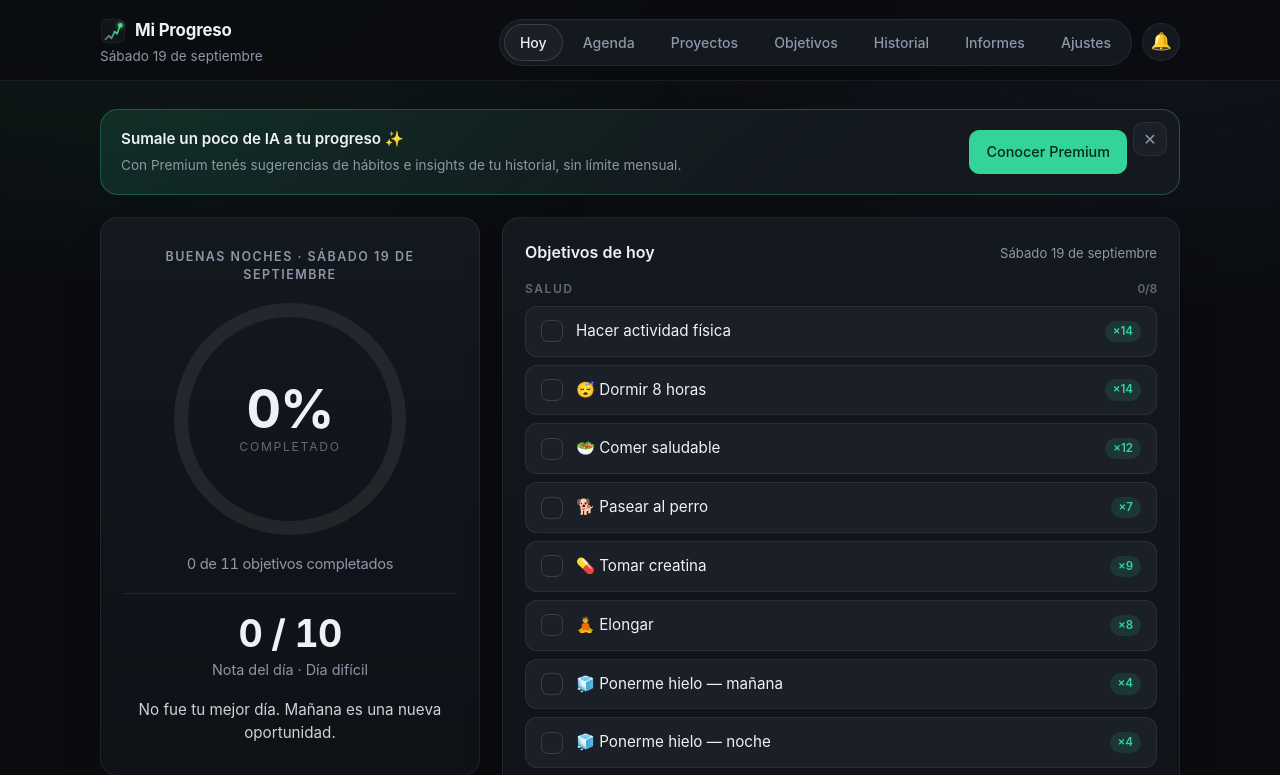
Test case: Revisión mensual guiada › avanza y retrocede los pasos sin perder el texto tipeado
Check: the heading "Objetivos de hoy" is shown, box x1=525 y1=240 x2=655 y2=264
Step 1. Click the button "Informes" → point(995, 42), box x1=949 y1=24 x2=1041 y2=61
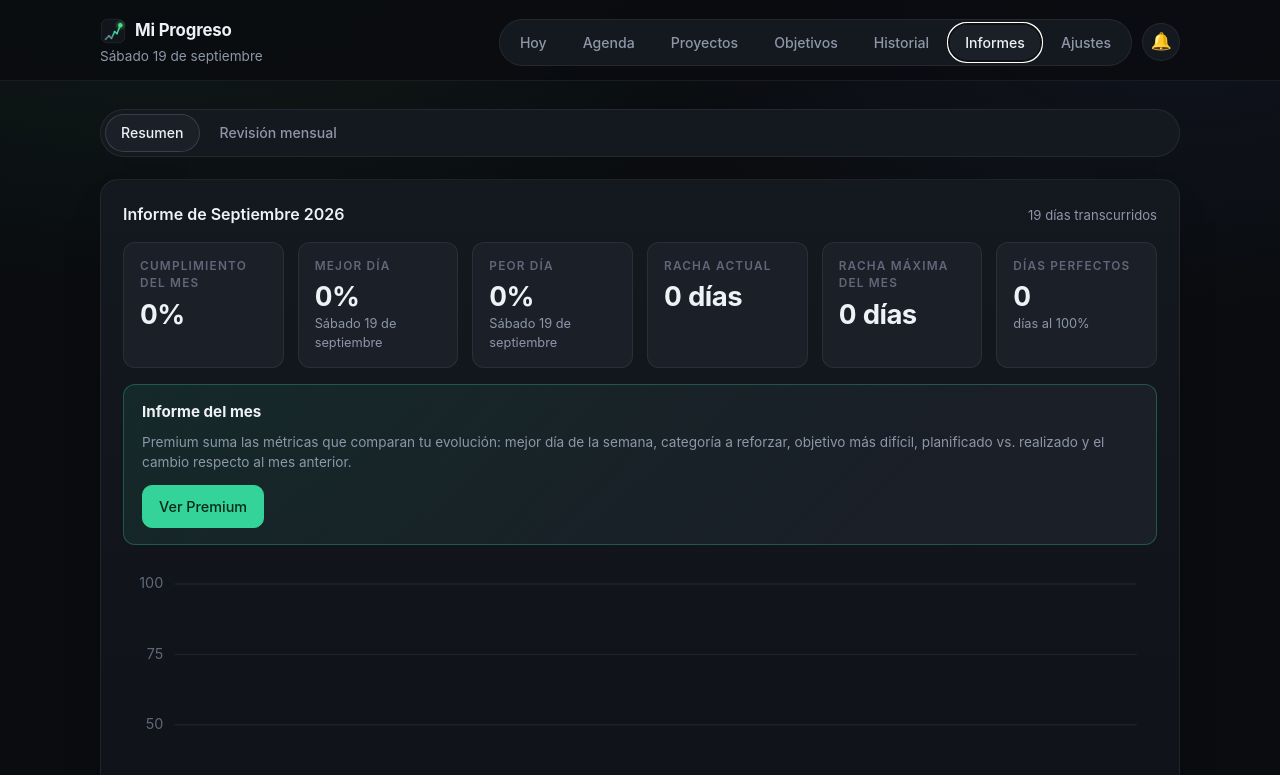
Step 2. Click the button "Revisión mensual" → point(278, 133), box x1=204 y1=114 x2=353 y2=152
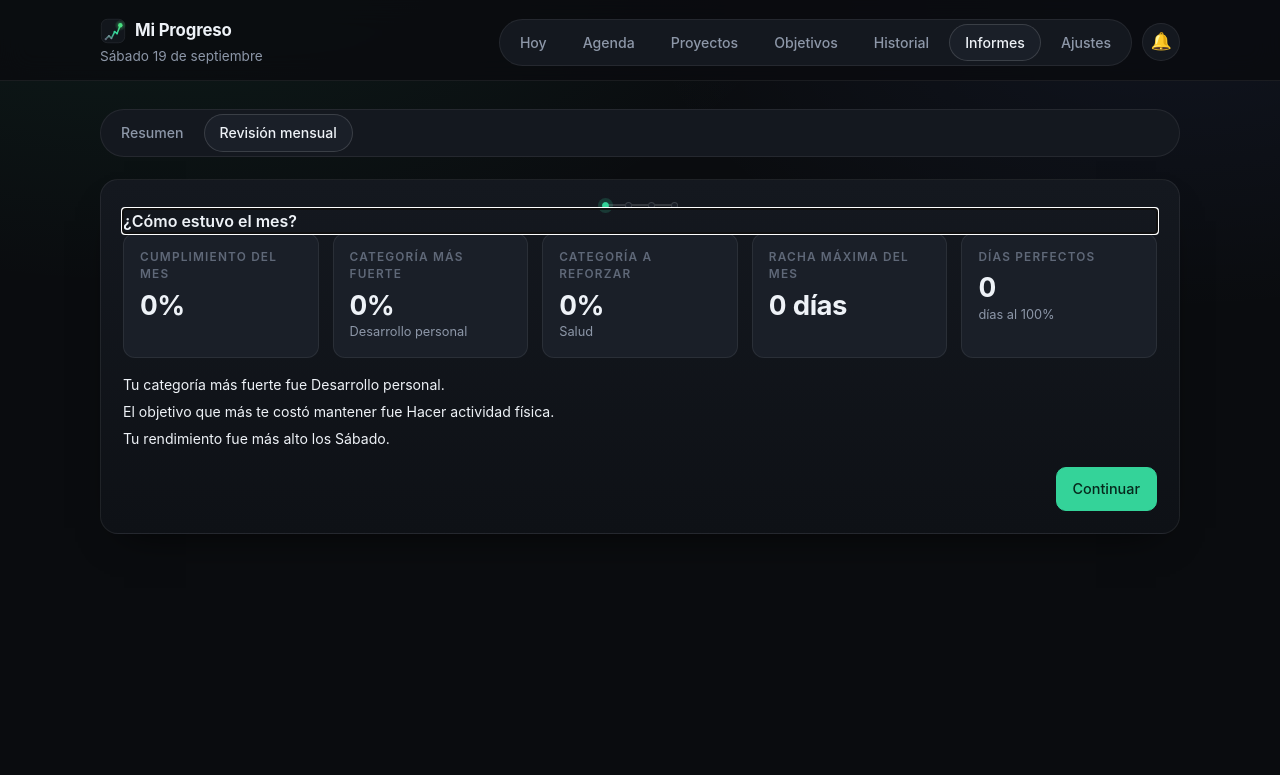
Check: the heading "¿Cómo estuvo el mes?" is shown, box x1=123 y1=210 x2=297 y2=230
Step 3. Click the button "Continuar" → point(1106, 489), box x1=1056 y1=467 x2=1157 y2=510
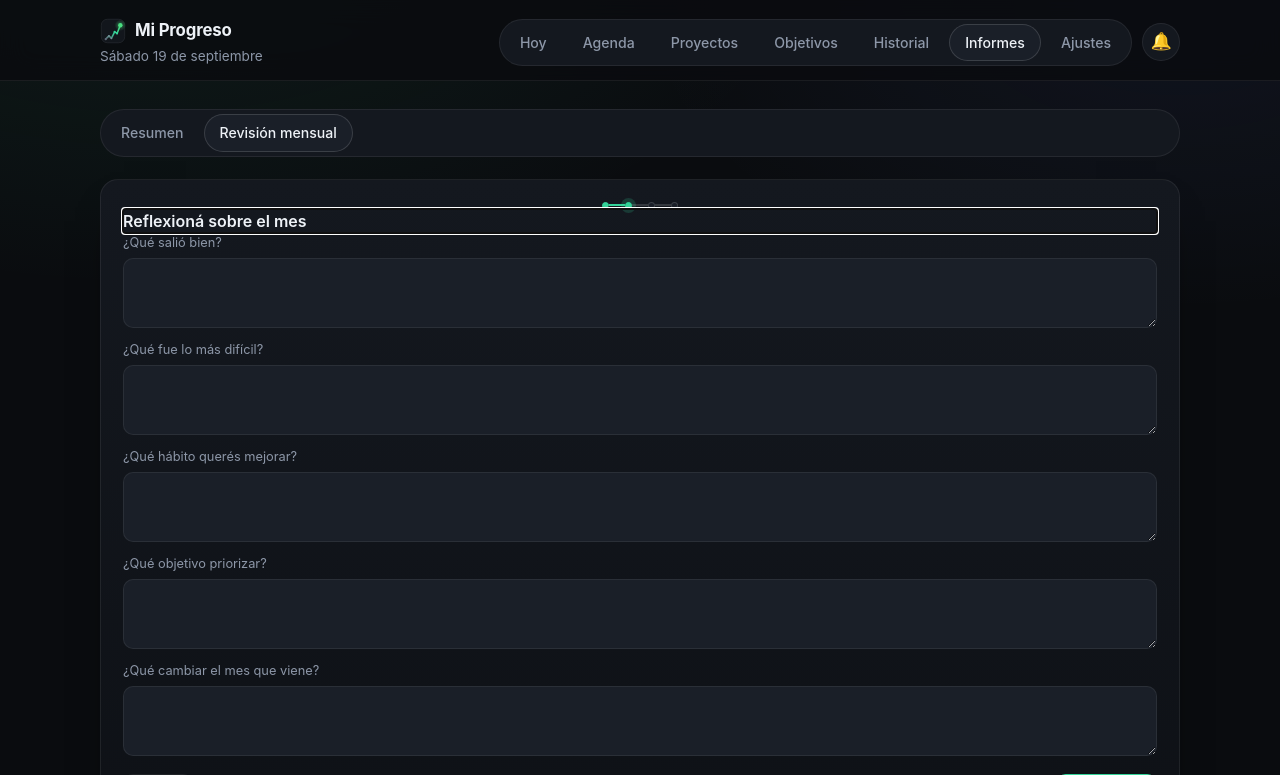
Check: the heading "Reflexioná sobre el mes" is shown, box x1=123 y1=210 x2=307 y2=230
Step 4. Type "Salió bien dormir mejor" into the text box labelled "¿Qué salió bien?" → point(640, 293), box x1=123 y1=258 x2=1157 y2=328
(page scrolled)
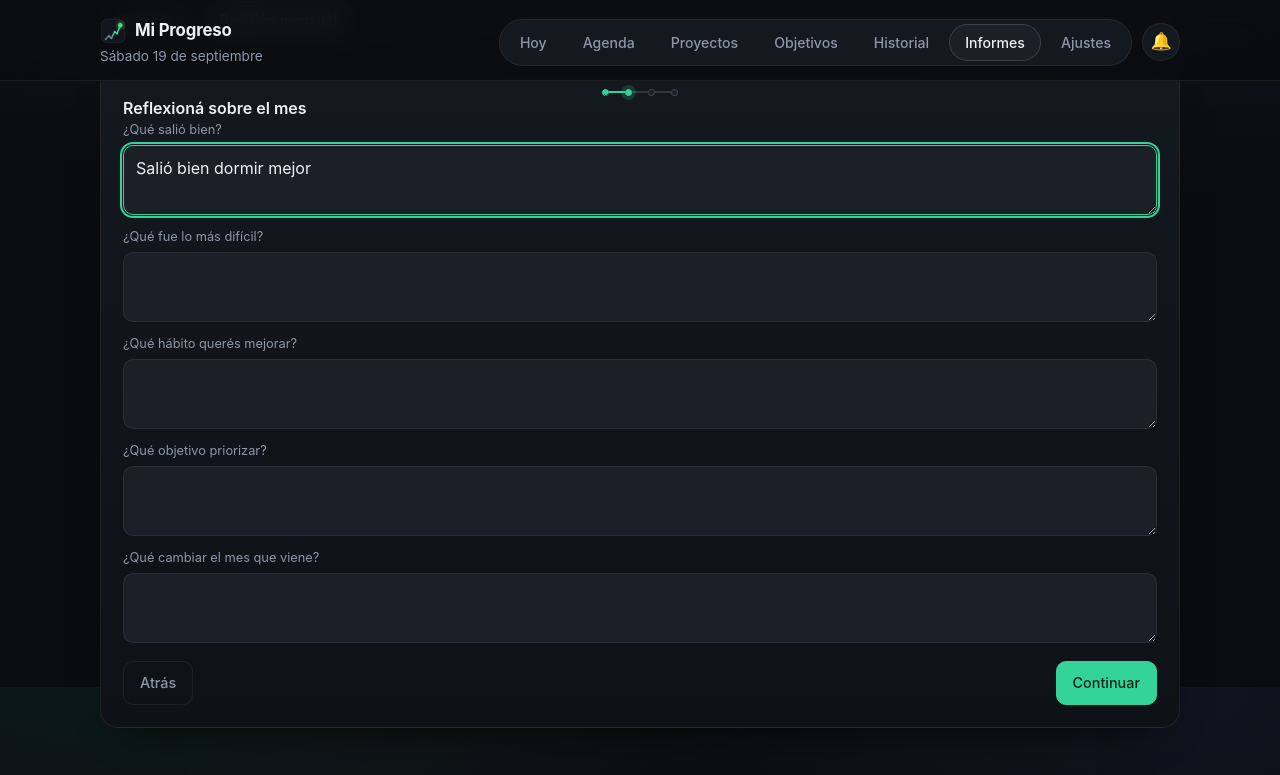
Step 5. Click the button "Atrás" → point(158, 683), box x1=123 y1=661 x2=193 y2=705
(page scrolled)
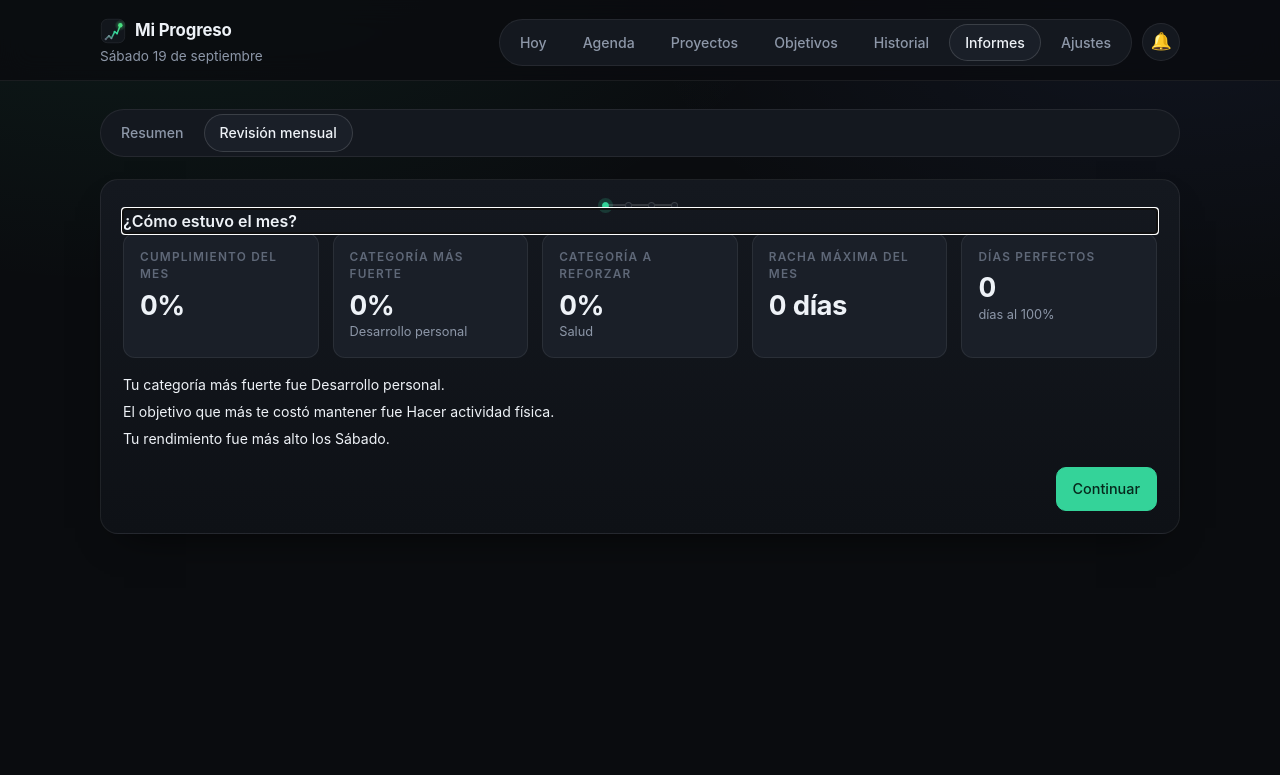
Check: the heading "¿Cómo estuvo el mes?" is shown, box x1=123 y1=210 x2=297 y2=230
Step 6. Click the button "Continuar" → point(1106, 489), box x1=1056 y1=467 x2=1157 y2=510
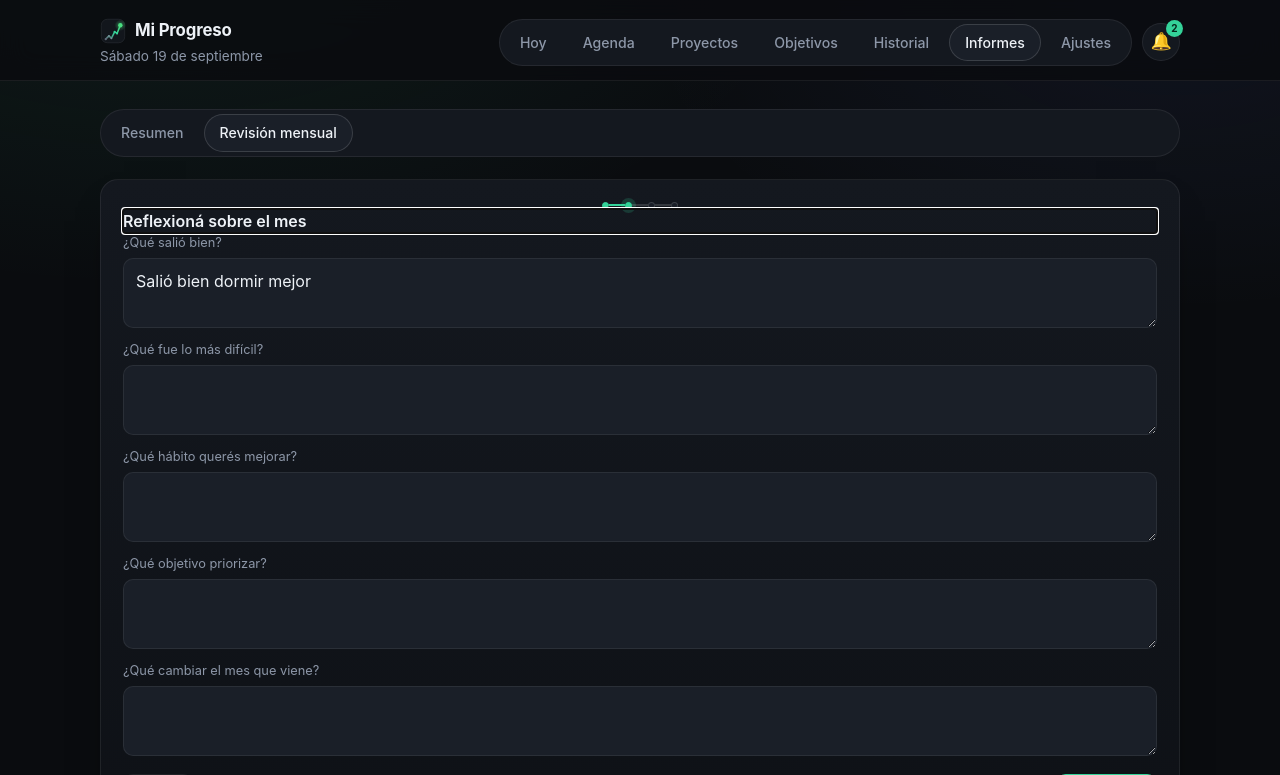
Check: the heading "Reflexioná sobre el mes" is shown, box x1=123 y1=210 x2=307 y2=230
Check: the text box labelled "¿Qué salió bien?" holds "Salió bien dormir mejor", box x1=123 y1=258 x2=1157 y2=328
